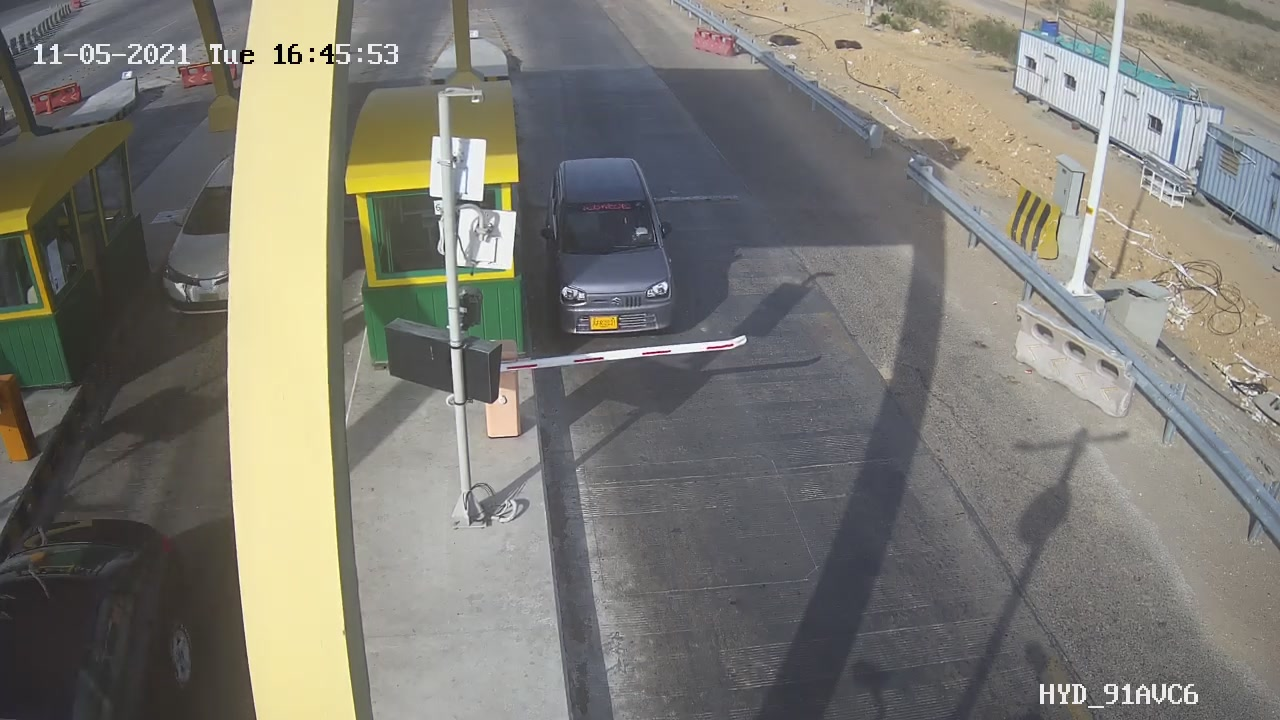F1: (520, 138, 705, 355)
